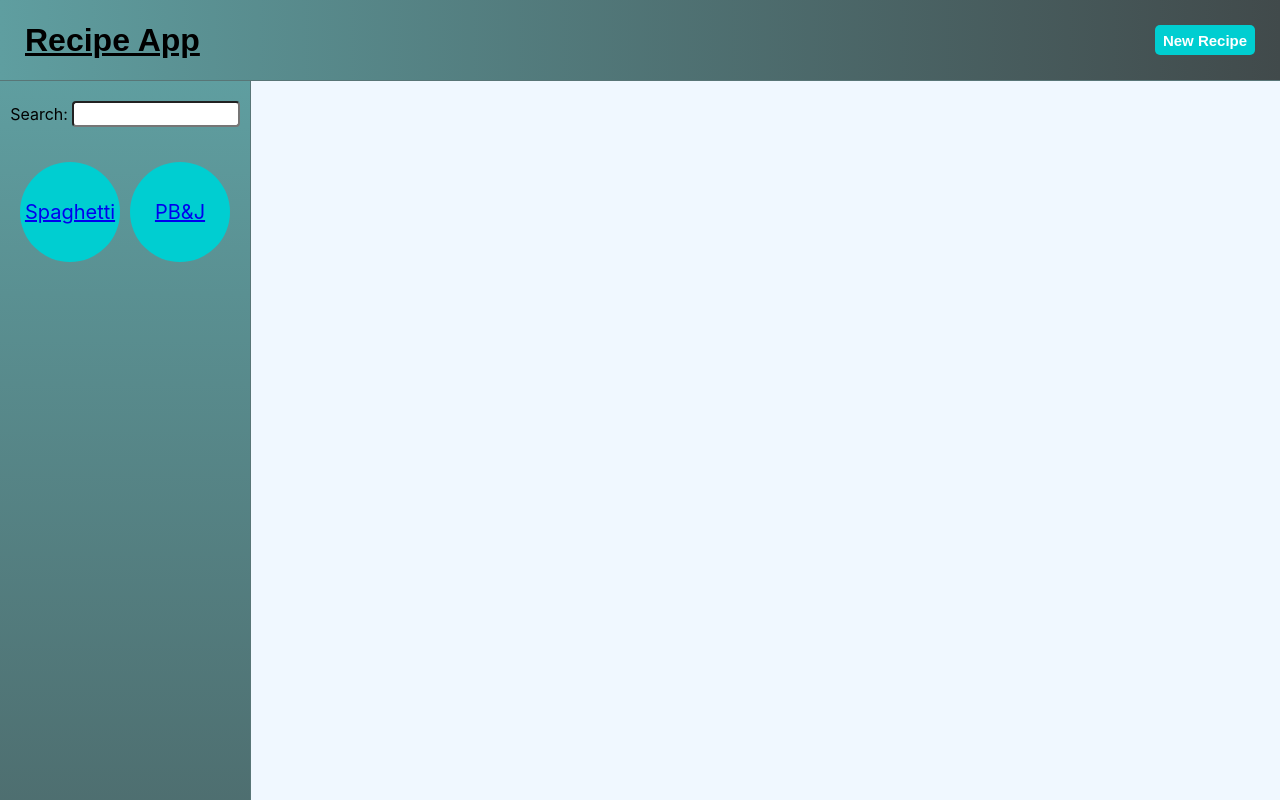
Test: Home page › should open a new recipe component when button is clicked
The image size is (1280, 800).
Click the button "New Recipe": (1205, 40) 1155,25 -> 1255,55
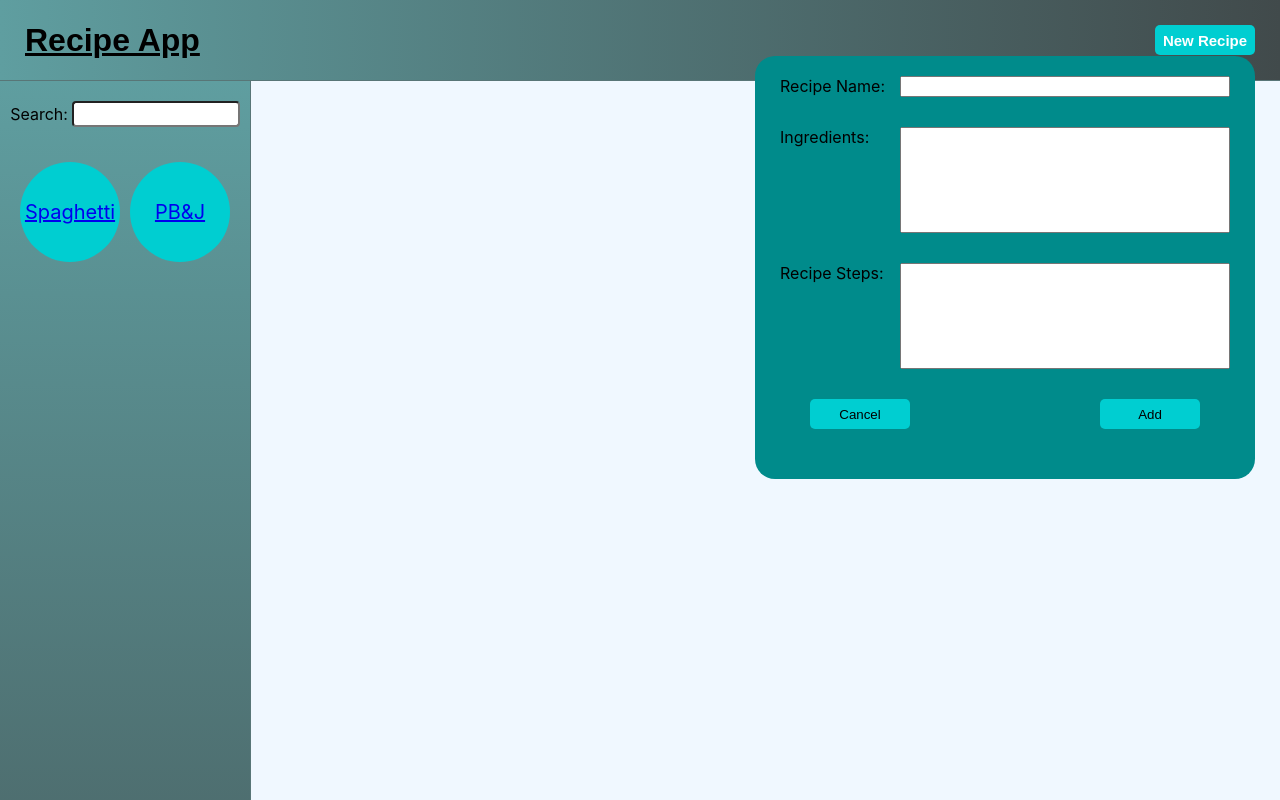
Now the form is shown, box 780,76 -> 1230,459
